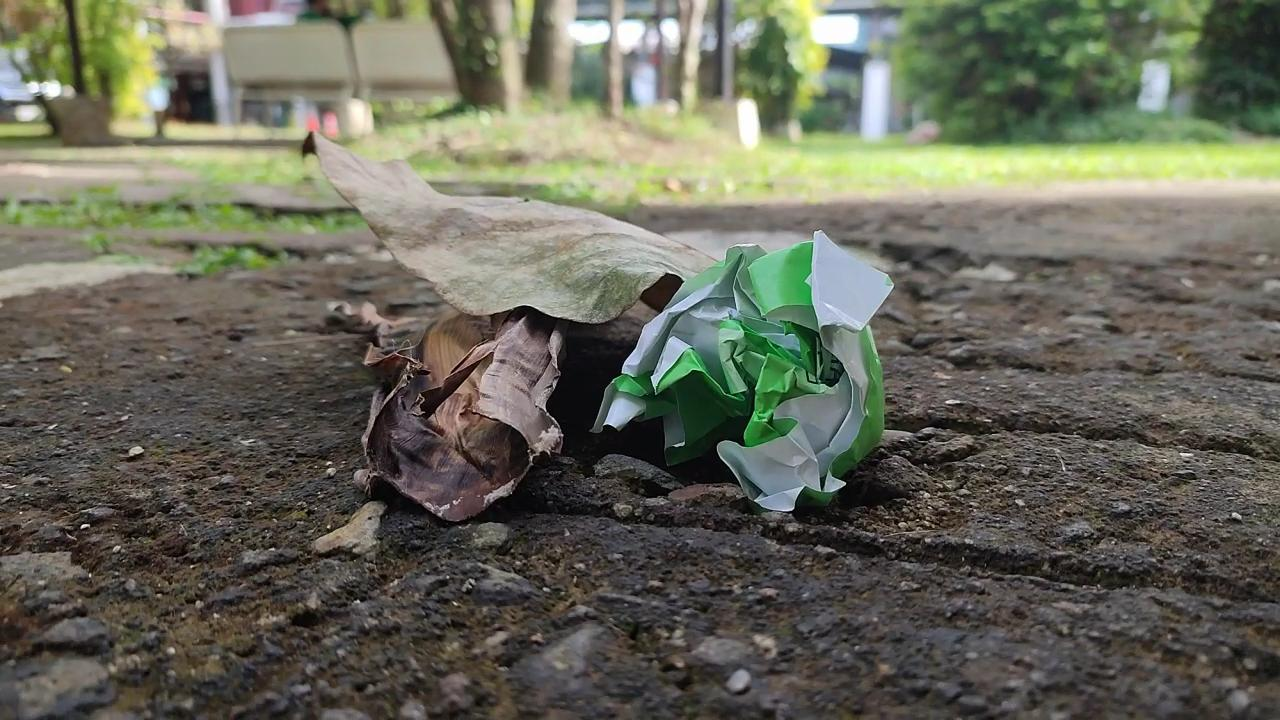Paper: (588, 222, 906, 522)
